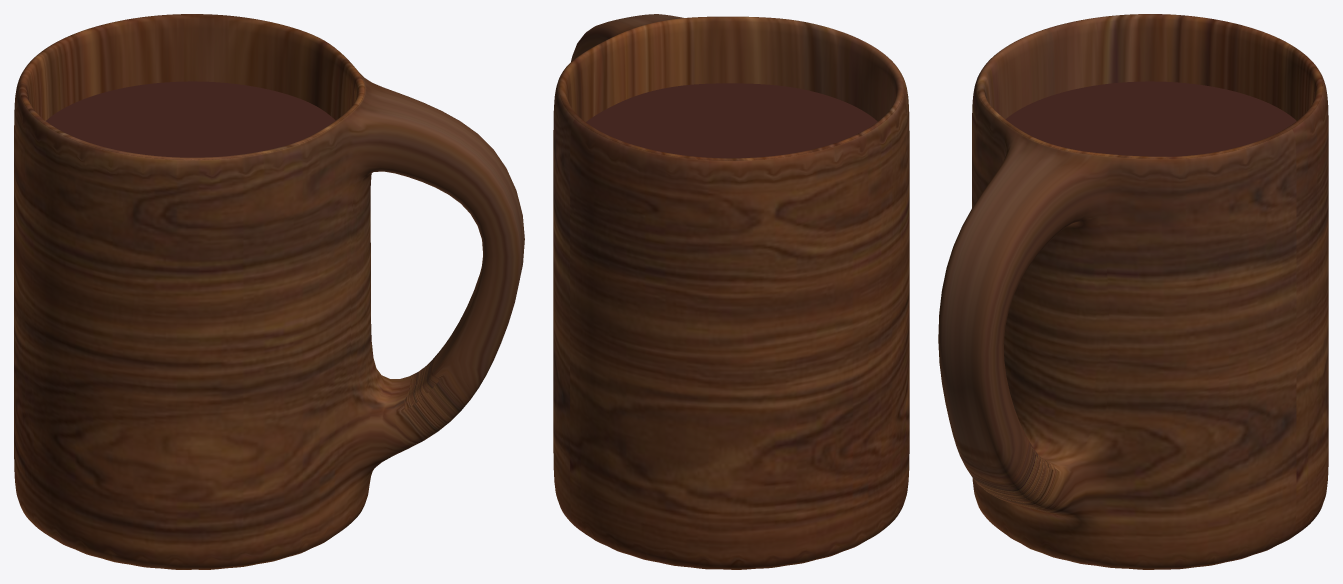
The model's file is SM_Cup_Tea.fbx.
3 views of the same model, side by side, from view 1: azimuth 30°, elevation 25°; view 2: azimuth 150°, elevation 25°; view 3: azimuth 270°, elevation 25° (orthographic).
Parts seen in each view (by area): view 1: SM_Cuo_Tea; view 2: SM_Cuo_Tea; view 3: SM_Cuo_Tea.
Part boxes in pixels (<box>): SM_Cuo_Tea: <box>14,14,524,569</box>; SM_Cuo_Tea: <box>553,14,909,569</box>; SM_Cuo_Tea: <box>938,14,1328,569</box>.
Bounding box in the file's own units: 31.78 × 31.75 × 26.73.
2 materials, 2 textured.
